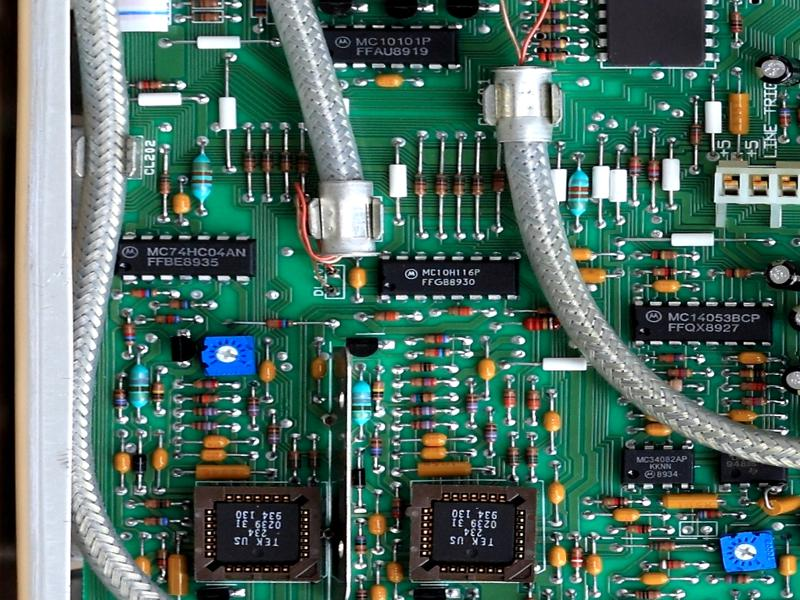Capacitor: (752, 53, 800, 88), (765, 257, 800, 293)
Diode: (131, 448, 149, 480), (350, 463, 368, 495), (306, 447, 322, 472), (287, 449, 302, 471)
Resistor: (189, 151, 216, 207), (126, 357, 152, 413), (566, 165, 590, 220), (350, 374, 372, 431), (514, 317, 570, 332), (240, 140, 258, 181), (412, 165, 430, 203), (130, 75, 170, 92), (419, 331, 460, 347), (259, 141, 277, 177), (369, 308, 409, 324), (489, 165, 507, 200), (530, 21, 574, 35), (405, 374, 446, 389), (470, 168, 487, 204), (264, 420, 285, 449), (433, 167, 450, 202), (262, 314, 299, 330), (524, 386, 543, 417), (367, 429, 384, 463), (775, 103, 793, 135), (186, 11, 227, 25), (451, 169, 468, 202), (502, 384, 519, 417), (404, 405, 447, 418), (650, 350, 689, 364), (150, 379, 167, 411), (391, 492, 408, 524), (112, 382, 128, 415), (295, 147, 312, 178), (420, 347, 460, 360), (152, 312, 189, 326), (156, 170, 173, 200), (645, 538, 679, 553), (532, 7, 571, 20), (405, 390, 444, 403), (120, 320, 138, 348), (442, 304, 478, 318), (406, 360, 442, 374), (481, 418, 499, 446), (736, 394, 772, 408), (646, 248, 682, 262), (370, 376, 386, 407), (569, 543, 585, 574), (688, 119, 703, 152), (535, 50, 573, 63), (534, 36, 572, 49), (728, 8, 745, 37), (649, 264, 684, 278), (187, 420, 224, 433), (138, 515, 175, 528), (277, 146, 293, 176), (160, 298, 200, 310), (645, 156, 661, 186), (406, 420, 445, 432), (465, 387, 480, 418), (628, 151, 643, 182), (599, 495, 632, 509), (694, 507, 726, 521), (189, 392, 226, 404), (246, 392, 261, 421), (126, 287, 162, 299), (735, 380, 771, 392), (656, 558, 689, 571), (524, 442, 539, 470), (659, 366, 697, 377), (722, 266, 754, 279), (141, 498, 175, 510), (722, 572, 753, 585), (189, 379, 225, 390), (735, 368, 771, 379), (506, 444, 521, 470), (190, 407, 224, 418), (624, 522, 655, 534), (355, 529, 368, 557), (630, 589, 663, 600), (185, 1, 225, 10), (157, 545, 169, 573)
